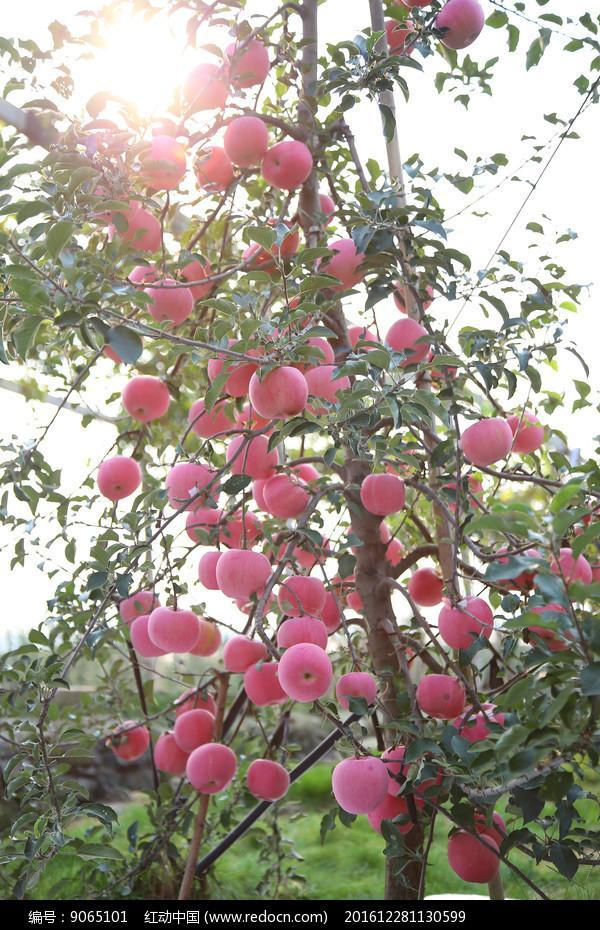apple: (330, 754, 389, 815), (247, 363, 306, 420), (437, 595, 491, 656), (280, 644, 333, 704), (445, 827, 500, 884), (216, 547, 273, 602), (183, 741, 238, 797), (134, 135, 186, 192), (148, 605, 200, 657), (459, 417, 512, 466), (260, 140, 311, 189), (434, 1, 483, 51), (222, 114, 268, 166), (415, 672, 465, 719), (124, 374, 172, 422), (149, 279, 195, 327), (95, 455, 140, 502), (230, 40, 268, 87), (406, 568, 446, 610)
